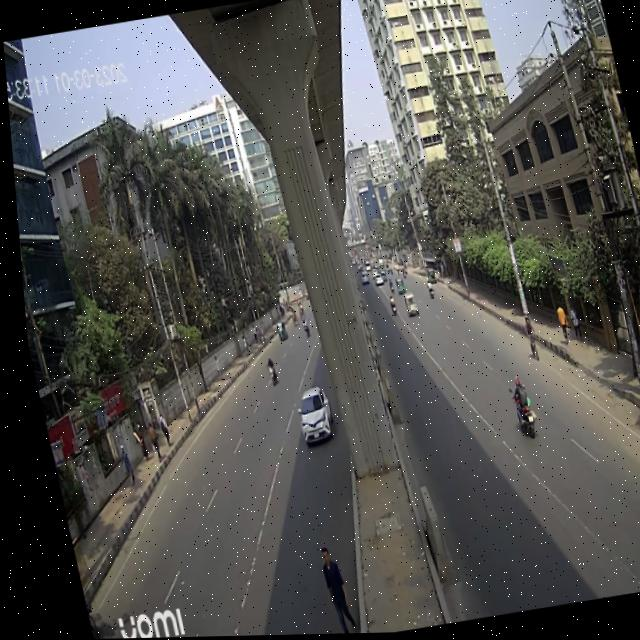cng: (399, 290, 416, 324), (269, 319, 284, 348), (389, 275, 402, 304)
